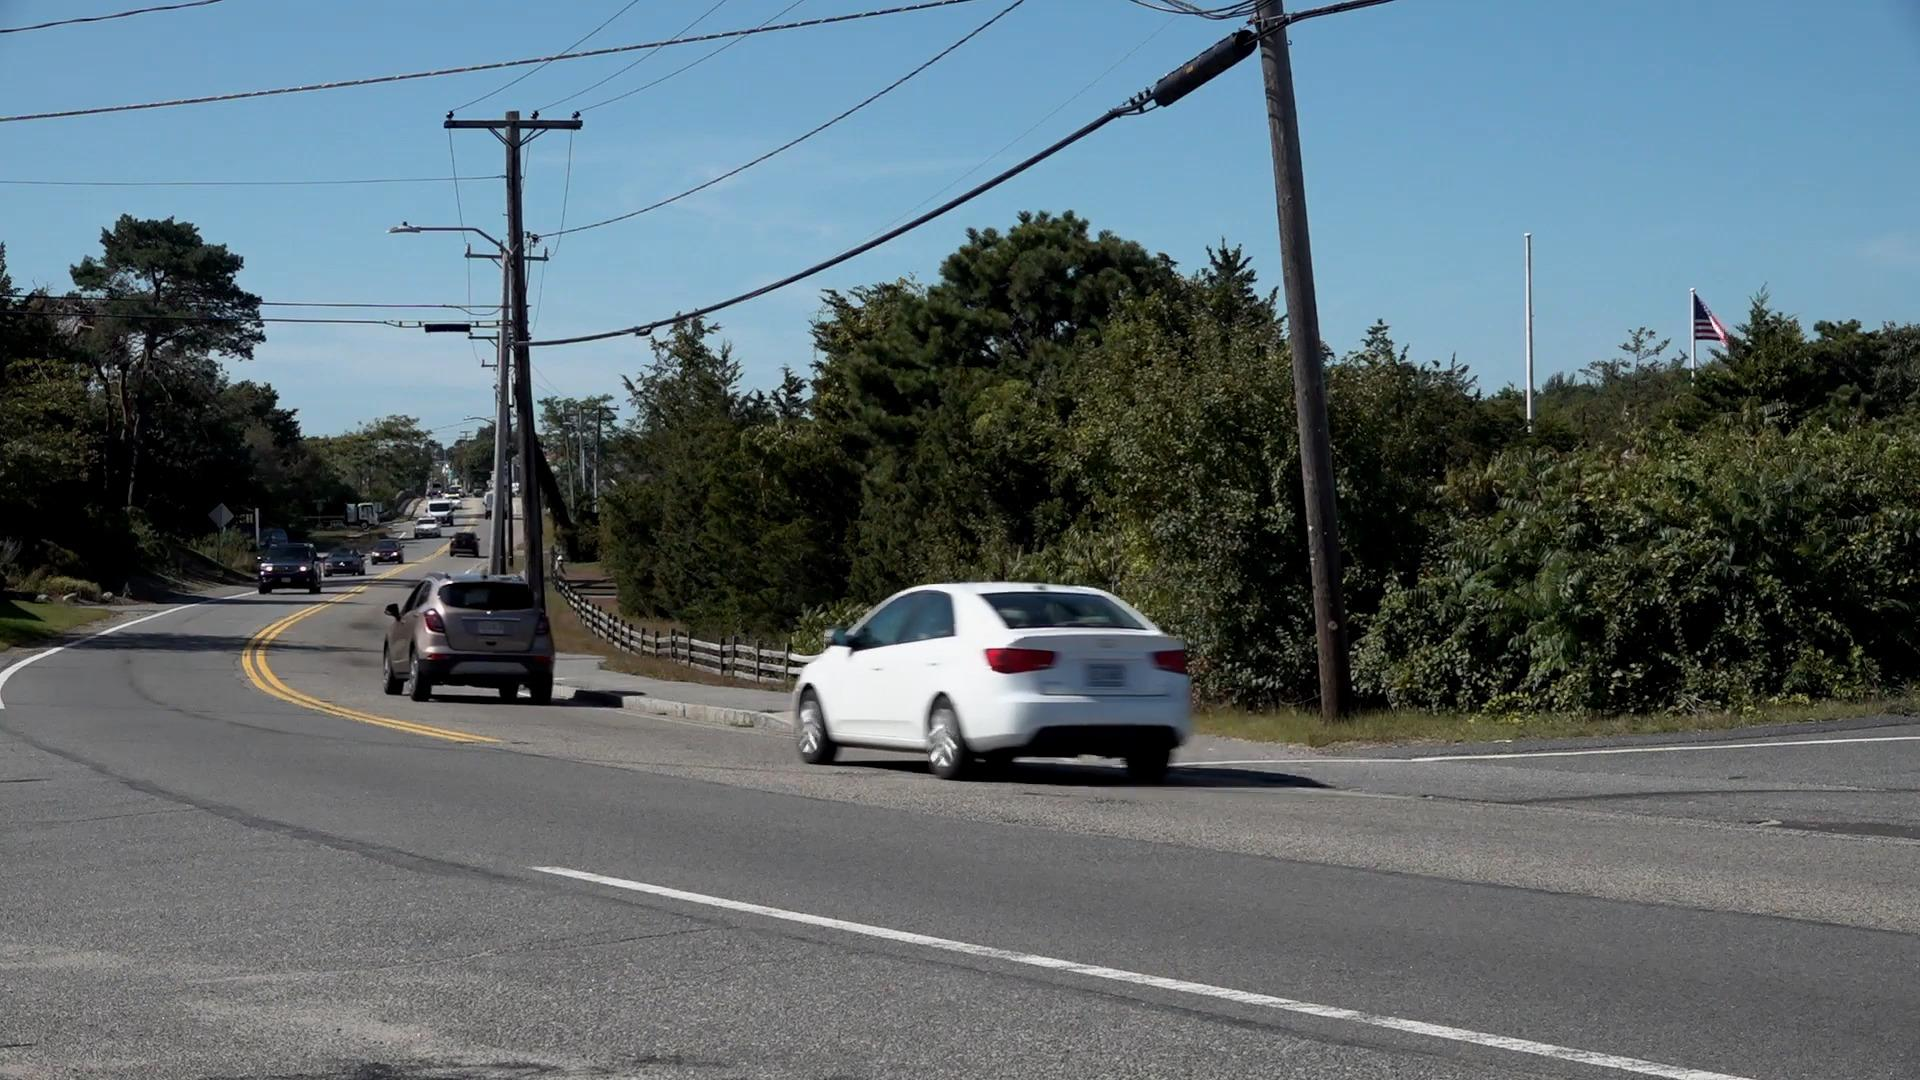sedans: (792, 578, 1197, 783)
suv: (377, 568, 560, 705)
